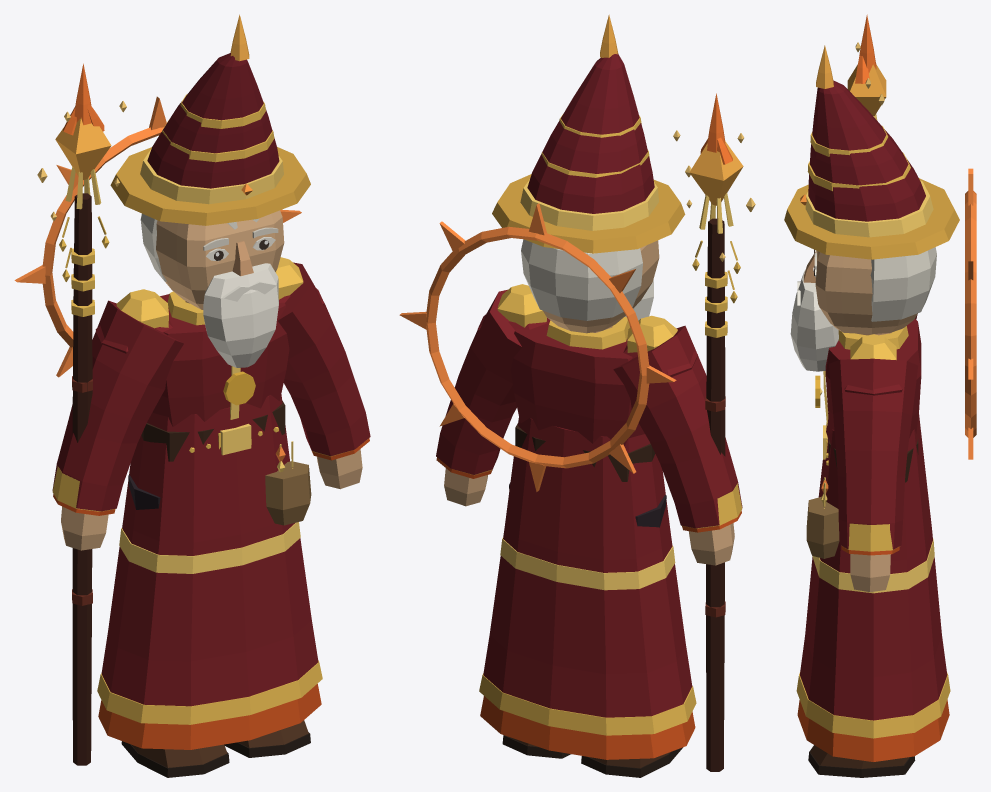
File: mage-legendary.obj
The picture shows the model from 3 angles, left to right: view 1: azimuth 30°, elevation 25°; view 2: azimuth 150°, elevation 25°; view 3: azimuth 270°, elevation 25°; orthographic projection. The views are drawn at different scales.
Visible parts, largest first — view 1: etek, kollar, sapka, asa, govde, kafa, sapka-kenari, sakal, etek-kaplamasi, etek-kenari, ates-halesi, etek-nakis (+17 smaller); view 2: etek, kollar, sapka, govde, ates-halesi, asa, sac, etek-kaplamasi, sapka-kenari, etek-kenari, etek-nakis, eller (+12 smaller); view 3: etek, kollar, sapka, sapka-kenari, kafa, sac, etek-kaplamasi, ates-halesi, etek-kenari, sakal, sapka-bandi, govde (+12 smaller).
Part boxes in pixels (x1,y1,x2,y2): etek: (101,394,318,706); kollar: (52,262,370,511); sapka: (147,53,279,188); asa: (72,193,92,765); govde: (152,294,289,426); kafa: (156,210,284,309); sapka-kenari: (110,147,310,225); sakal: (203,263,278,367); etek-kaplamasi: (98,684,321,749); etek-kenari: (97,660,322,724); ates-halesi: (14,96,301,377); etek-nakis: (119,522,300,573); etek: (483,417,692,717); kollar: (436,289,742,528); sapka: (527,53,654,213); govde: (510,319,644,446); ates-halesi: (399,203,676,491); asa: (706,218,725,771); sac: (521,239,642,320); etek-kaplamasi: (480,696,695,759); sapka-kenari: (492,174,685,253); etek-kenari: (479,673,696,735); etek-nakis: (500,537,675,590); eller: (444,468,734,565); etek: (800,413,947,720); kollar: (829,315,918,549); sapka: (808,80,925,221); sapka-kenari: (784,178,959,259); kafa: (815,250,917,334); sac: (870,247,936,321); etek-kaplamasi: (797,699,949,761); ates-halesi: (965,168,976,459); etek-kenari: (796,672,950,738); sakal: (790,269,838,371); sapka-bandi: (805,180,933,237); govde: (825,319,921,437).
Size of the model in its own units: 23.99 by 52.3 by 13.06.
